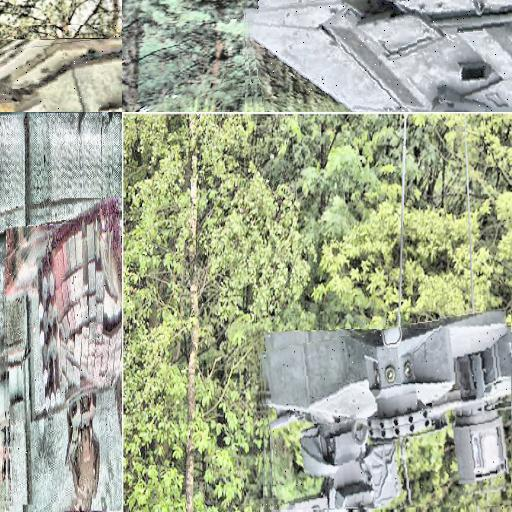tanks: (261, 314, 512, 512), (5, 200, 123, 502), (246, 1, 512, 113), (1, 37, 123, 113)
